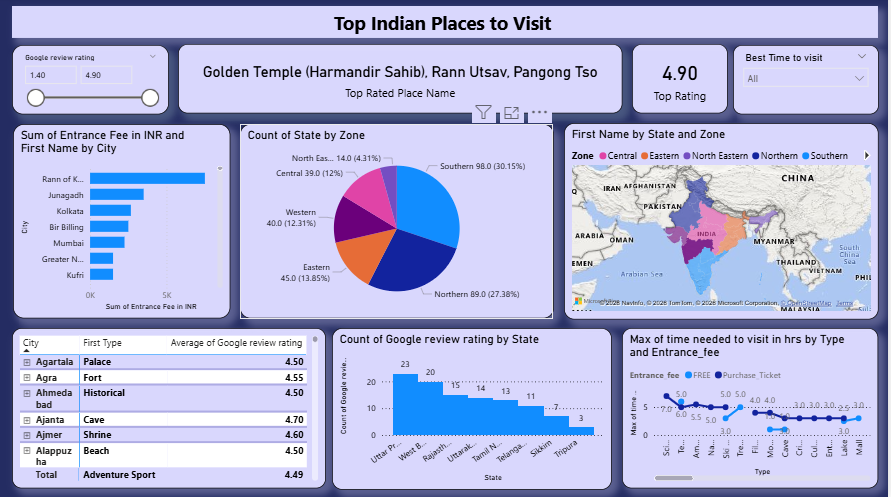

The dashboard page shown, as its layout file describes it:
{"tool":"powerbi","page":{"name":"Page 1","canvas":[1280,720],"ordinal":0},"visuals":[{"type":"card","fields":{"Values":["Travel.Top Rating"]},"box":[910,68.3,138.3,100],"z":0},{"type":"slicer","fields":{"Values":["Travel.Google review rating"]},"box":[17.5,68.8,226.2,100],"z":1000},{"type":"card","fields":{"Values":["Travel.Top Rated Place Name"]},"box":[256.7,68.3,640,100],"z":2000},{"type":"pivotTable","fields":{"Rows":["Travel.City","Travel.Name"],"Values":["Min(Travel.Type)","Avg(Travel.Google review rating)"]},"box":[17.8,476.7,452.2,231.1],"z":3000},{"type":"pieChart","fields":{"Category":["Travel.Zone"],"Y":["CountNonNull(Travel.State)"]},"box":[345,183.3,451.7,280],"z":4000},{"type":"barChart","fields":{"Category":["Travel.City"],"Y":["Sum(Travel.Entrance Fee in INR)"]},"box":[18.3,183.3,313.3,280],"z":5000},{"type":"slicer","fields":{"Values":["Travel.Best Time to visit"]},"box":[1055,68.8,210,100],"z":6000},{"type":"lineChart","fields":{"Y":["Max(Travel.time needed to visit in hrs)"],"Category":["Travel.Type"],"Series":["Travel.Entrance_fee"]},"box":[896.2,476.2,368.8,231.2],"z":7000},{"type":"clusteredColumnChart","fields":{"Category":["Travel.State"],"Y":["CountNonNull(Travel.Google review rating)"]},"box":[478.8,476.2,402.5,232.5],"z":8000},{"type":"filledMap","fields":{"Category":["Travel.State"],"Series":["Travel.Zone"]},"box":[812.5,181.2,452.5,282.5],"z":9000},{"type":"textbox","box":[17.1,12.9,1247.1,45.7],"z":10000}]}

Visuals, with their boxes in screenshot pixels (x1, y1, x2, y2), scaled from the page's 1280x720 canvas onto the 891x497 screenshot:
card - Travel.Top Rating: rect(633, 47, 730, 116)
slicer - Travel.Google review rating: rect(12, 47, 170, 117)
card - Travel.Top Rated Place Name: rect(179, 47, 624, 116)
pivotTable - Travel.City x Travel.Name: rect(12, 329, 327, 489)
pieChart - Travel.Zone x CountNonNull(Travel.State): rect(240, 127, 555, 320)
barChart - Travel.City x Sum(Travel.Entrance Fee in INR): rect(13, 127, 231, 320)
slicer - Travel.Best Time to visit: rect(734, 47, 881, 117)
lineChart - Max(Travel.time needed to visit in hrs) x Travel.Type: rect(624, 329, 881, 488)
clusteredColumnChart - Travel.State x CountNonNull(Travel.Google review rating): rect(333, 329, 613, 489)
filledMap - Travel.State x Travel.Zone: rect(566, 125, 881, 320)
textbox: rect(12, 9, 880, 40)
